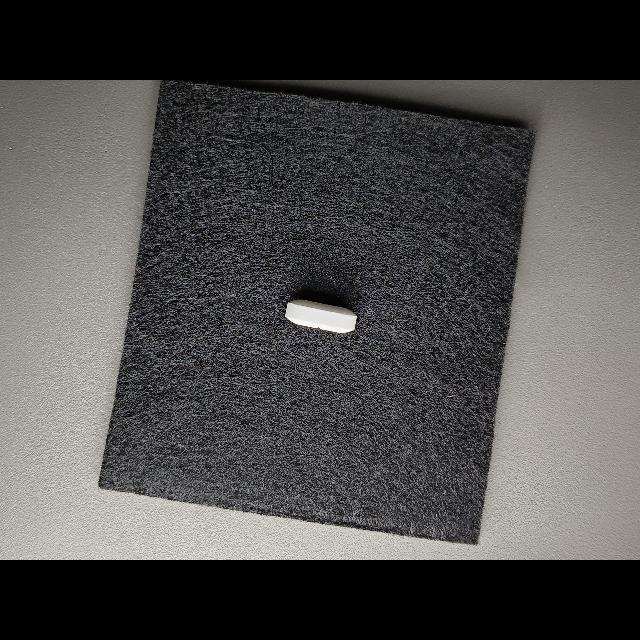Intact Pill: (285, 299, 357, 333)
